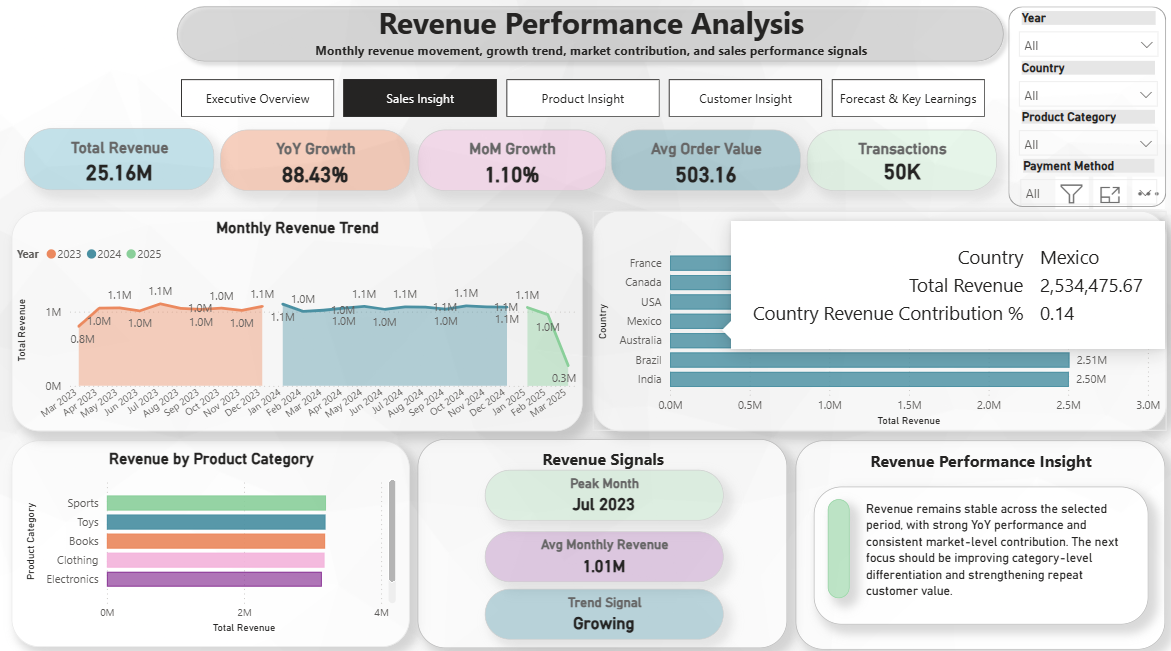

What the dashboard file says about the page in this screenshot:
{"tool":"powerbi","page":{"name":"Sales Insight","canvas":[1280,720],"ordinal":1},"visuals":[{"type":"shape","box":[183.8,0,913.2,77.9],"z":0},{"type":"textbox","box":[315.4,0,651.5,88.5],"z":1000},{"type":"pageNavigator","box":[197,88.6,874.3,41.4],"z":2000},{"type":"clusteredBarChart","title":"Revenue by Product Category","fields":{"Category":["Dim Product.Product Category"],"Y":["Measure Table.Total Revenue"]},"box":[13.3,478.3,431,223.3],"z":3000},{"type":"clusteredBarChart","title":"Top Markets by Revenue","fields":{"Category":["Dim Country.Country"],"Y":["Measure Table.Total Revenue"]},"box":[642.5,230,621.2,238.8],"z":4000},{"type":"lineChart","title":"Monthly Revenue Trend","fields":{"Category":["Dim Date.Month Year"],"Series":["Fact Sales.Year"],"Y":["Measure Table.Total Revenue"]},"box":[13.8,230,617.5,238.8],"z":5000},{"type":"card","title":"Total Revenue","fields":{"Values":["Measure Table.Total Revenue"]},"box":[27.1,141.4,205.7,67.1],"z":6000},{"type":"card","title":"YoY Growth","fields":{"Values":["Measure Table.Revenue YoY Growth %"]},"box":[240,142.5,205.8,66.7],"z":7000},{"type":"card","title":"MoM Growth","fields":{"Values":["Measure Table.Revenue MoM Growth %"]},"box":[452.5,141.7,204.2,66.7],"z":8000},{"type":"card","title":"Avg Order Value","fields":{"Values":["Measure Table.Average Order Value"]},"box":[662.5,141.7,205.8,66.7],"z":9000},{"type":"card","title":"Transactions","fields":{"Values":["Measure Table.Total Transactions"]},"box":[874.2,141.7,205.8,66.7],"z":10000},{"type":"shape","box":[1093.1,9.2,170.8,217],"z":11000},{"type":"slicer","fields":{"Values":["Dim Country.Country"]},"box":[1094.2,65,170,56.7],"z":12000},{"type":"slicer","fields":{"Values":["Dim Date.Year"]},"box":[1093.3,9.2,170.8,61.7],"z":13000},{"type":"slicer","fields":{"Values":["Dim Product.Product Category"]},"box":[1094.2,118,170,55.8],"z":14000},{"type":"slicer","fields":{"Values":["Dim Payment Method.Payment Method"]},"box":[1096.2,171.5,167.7,56.9],"z":15000},{"type":"shape","title":"Revenue Signals","box":[453.3,476.7,400,226.7],"z":16000},{"type":"shape","title":"Revenue Performance Insight","box":[862.7,479.1,400,226.4],"z":17000},{"type":"card","title":"Peak Month","fields":{"Values":["Measure Table.Peak Revenue Month"]},"box":[525,511,258.3,55],"z":18000},{"type":"card","title":"Avg Monthly Revenue","fields":{"Values":["Measure Table.Average Monthly Revenue"]},"box":[525,576.7,258.3,55],"z":19000},{"type":"card","title":"Trend Signal","fields":{"Values":["Measure Table.Revenue Trend Signal"]},"box":[525,640,258.3,55],"z":20000},{"type":"shape","title":"Market Leadership Insight","box":[881.8,528.2,361.8,149.1],"z":21000},{"type":"textbox","box":[933.3,538.3,291.7,138.3],"z":22000},{"type":"shape","title":"Market Leadership Insight","box":[896.7,541.7,23.3,107],"z":23000}]}

Visuals, with their boxes in screenshot pixels (x1, y1, x2, y2), scaled from the page's 1280x720 canvas onto the 1171x651 screenshot:
shape: 168/0/1004/70
textbox: 289/0/885/80
pageNavigator: 180/80/980/118
"Revenue by Product Category" clusteredBarChart: 12/432/406/634
"Top Markets by Revenue" clusteredBarChart: 588/208/1156/424
"Monthly Revenue Trend" lineChart: 13/208/578/424
"Total Revenue" card: 25/128/213/189
"YoY Growth" card: 220/129/408/189
"MoM Growth" card: 414/128/601/188
"Avg Order Value" card: 606/128/794/188
"Transactions" card: 800/128/988/188
shape: 1000/8/1156/205
slicer - Dim Country.Country: 1001/59/1157/110
slicer - Dim Date.Year: 1000/8/1156/64
slicer - Dim Product.Product Category: 1001/107/1157/157
slicer - Dim Payment Method.Payment Method: 1003/155/1156/207
"Revenue Signals" shape: 415/431/781/636
"Revenue Performance Insight" shape: 789/433/1155/638
"Peak Month" card: 480/462/717/512
"Avg Monthly Revenue" card: 480/521/717/571
"Trend Signal" card: 480/579/717/628
"Market Leadership Insight" shape: 807/478/1138/612
textbox: 854/487/1121/612
"Market Leadership Insight" shape: 820/490/842/587
